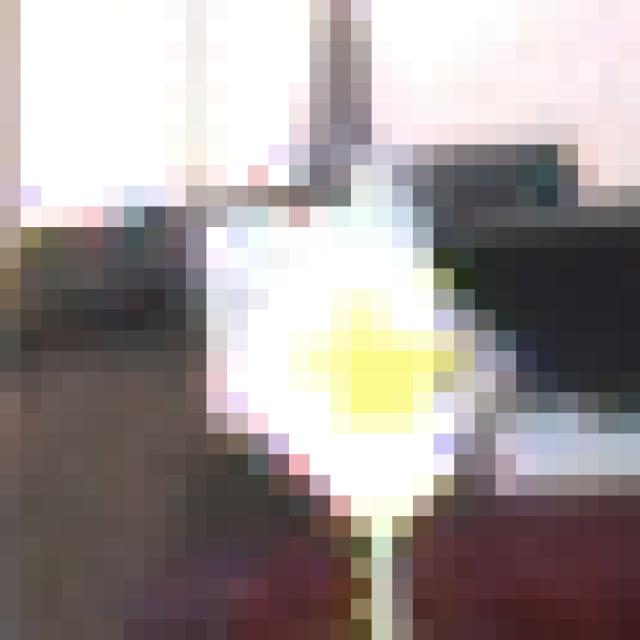Main Road: (125, 125, 538, 538)
